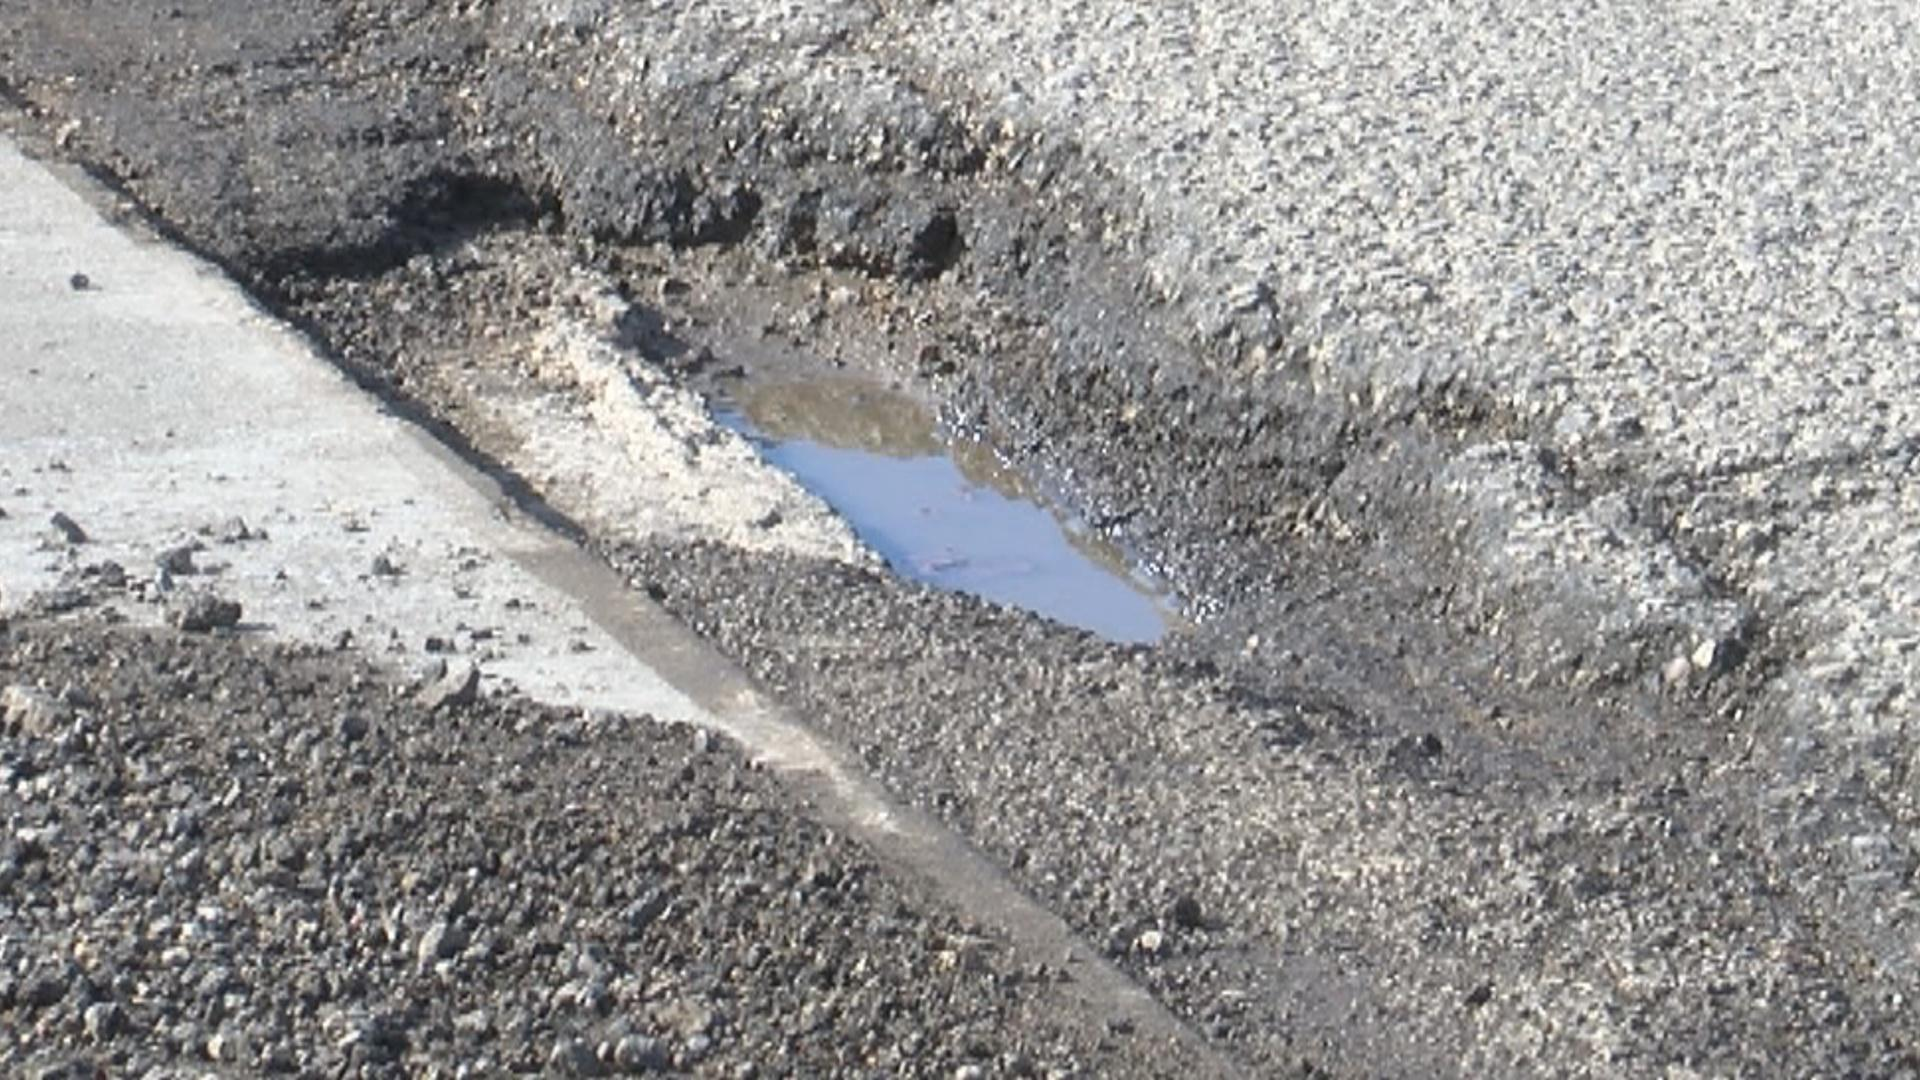Pothole: (231, 124, 1669, 738)
